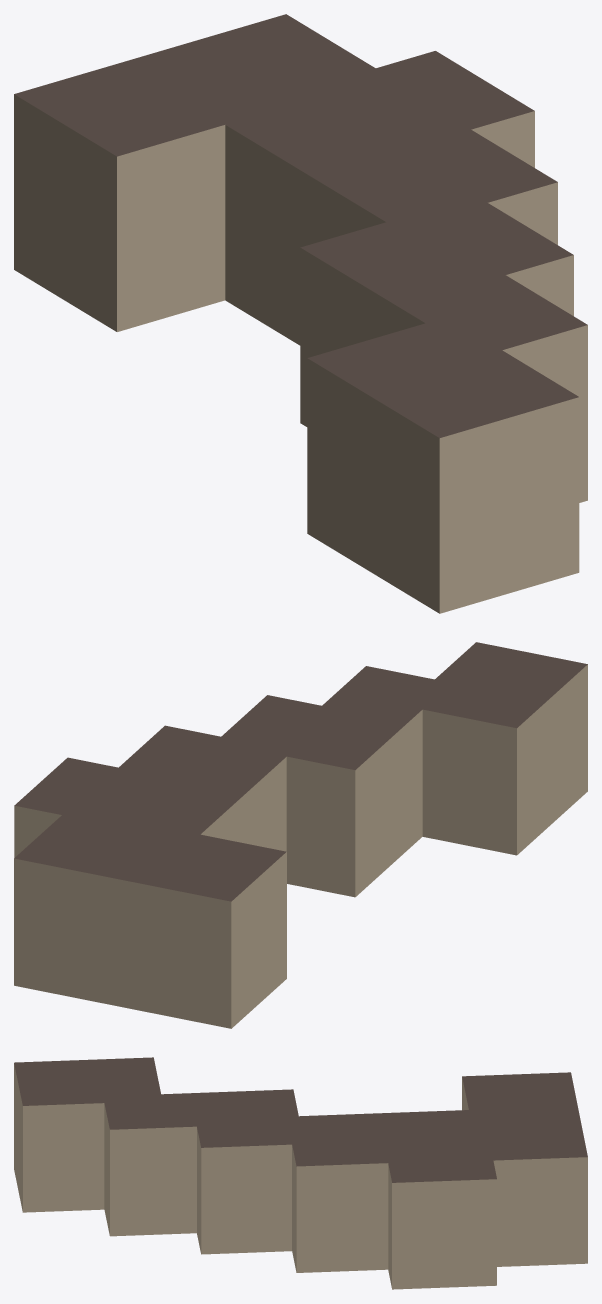
3 renders of one model, top to bottom at view 1: azimuth 30°, elevation 25°; view 2: azimuth 150°, elevation 25°; view 3: azimuth 270°, elevation 25°, orthographic. The views are drawn at different scales.
Visible parts, largest first — view 1: HP-w1200765944; view 2: HP-w1200765944; view 3: HP-w1200765944.
Boxes of the visible parts, x1,y1,x2,y2 form: HP-w1200765944: (14,14,587,613); HP-w1200765944: (14,642,587,1028); HP-w1200765944: (14,1057,587,1289).
Bounding box in the file's own units: 22.73 × 9 × 43.93.
